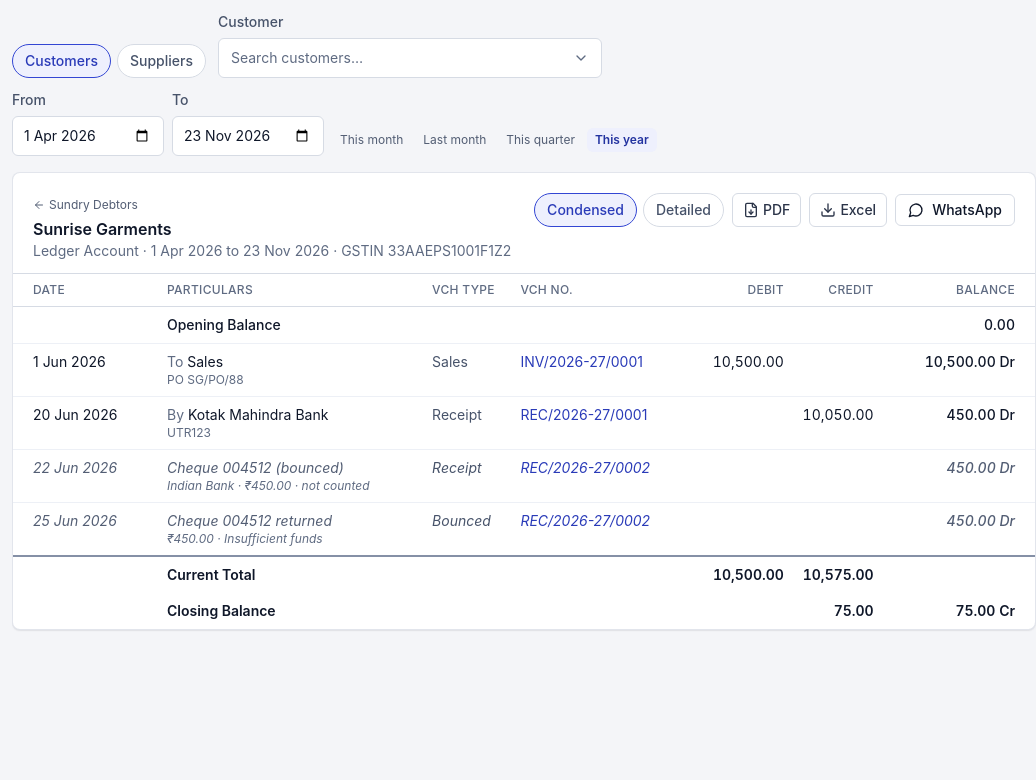
Test: customers' and suppliers' accounts › adds each voucher's ledgers and the bills it settled in the detailed view, and prints it so
Click the button "Detailed": (684, 210) x1=643 y1=193 x2=724 y2=227
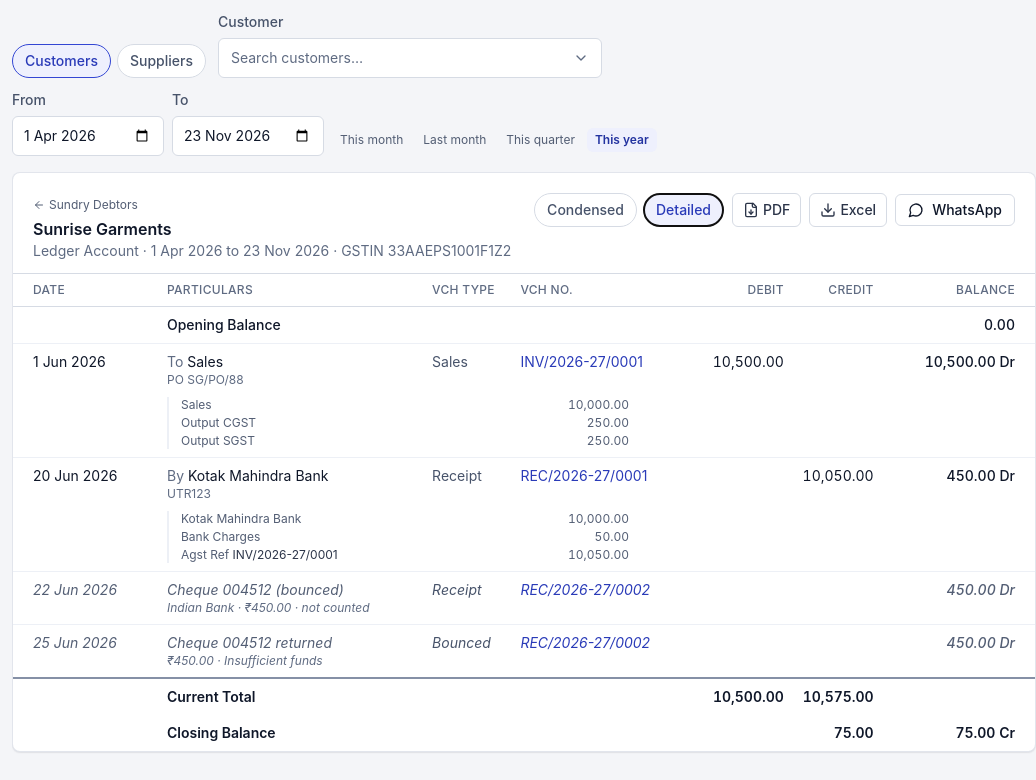
Check: the text "Output CGST" is shown, box x1=181 y1=415 x2=256 y2=431
Check: the text "Bank Charges" is shown, box x1=181 y1=529 x2=260 y2=545
Check: the text "INV/2026-27/0001" is shown, box x1=233 y1=547 x2=338 y2=562
